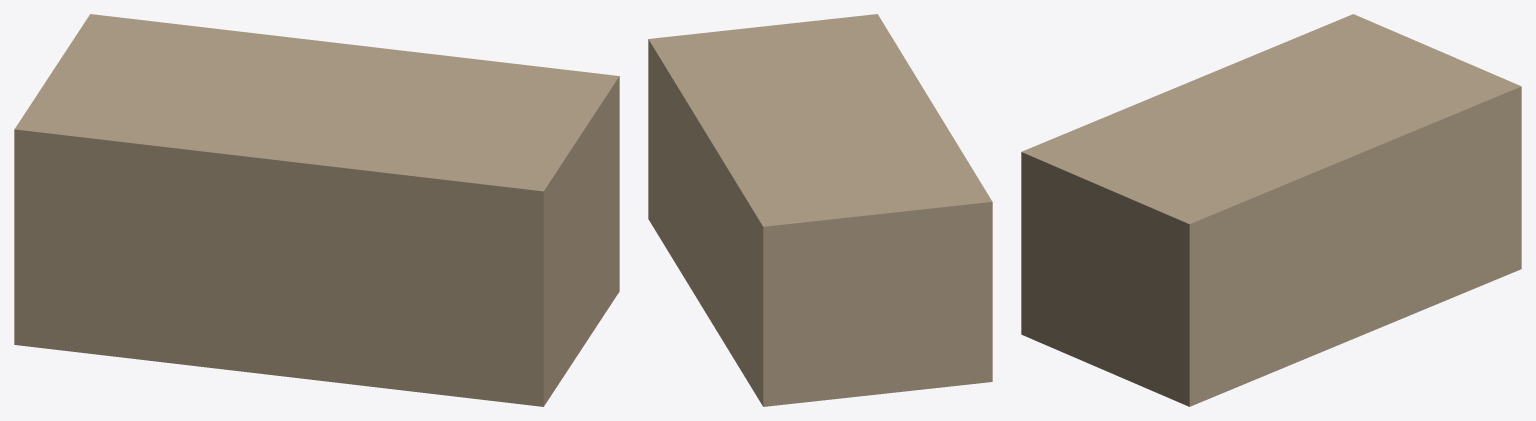
Rendered from bld_100478307.dae.
3 views of the same model, side by side, from view 1: azimuth 30°, elevation 25°; view 2: azimuth 150°, elevation 25°; view 3: azimuth 270°, elevation 25° (orthographic). The views are drawn at different scales.
Visible parts, largest first — view 1: bld_100478307; view 2: bld_100478307; view 3: bld_100478307.
Part boxes in pixels (x1,y1,x2,y2): bld_100478307: (14,14,619,406); bld_100478307: (648,14,992,406); bld_100478307: (1021,14,1521,406).
Size of the model in its own units: 19.75 by 19.86 by 8.
